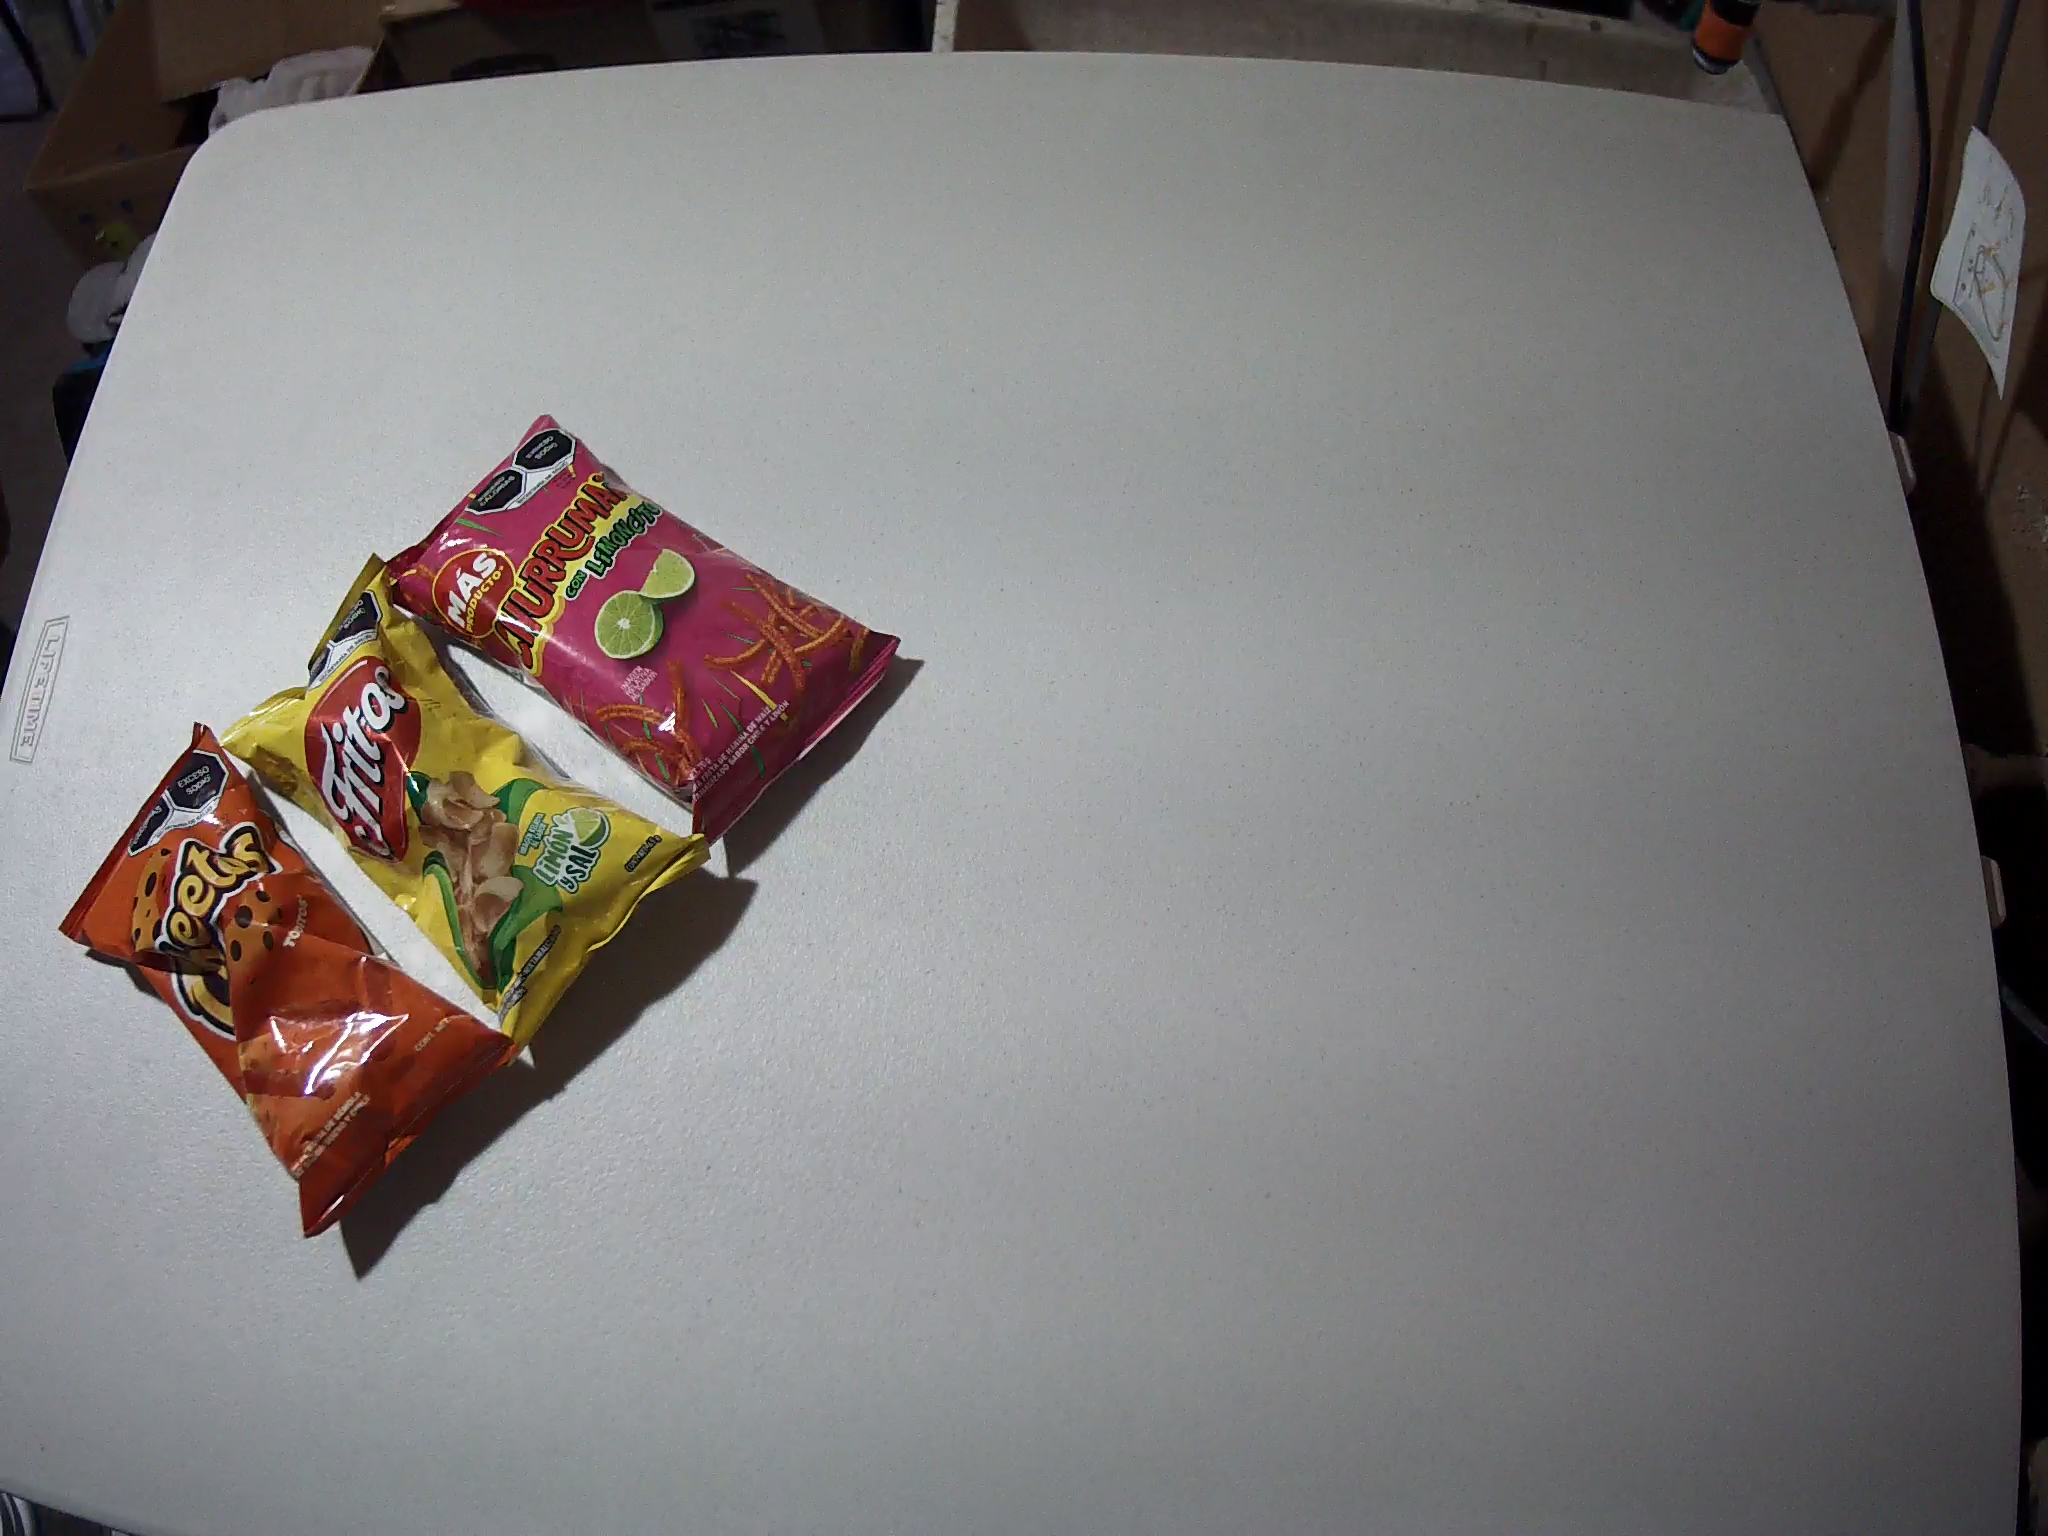CheetosTorciditos_55_F: (61, 723, 531, 1242)
Churrumais_70_F: (376, 411, 906, 849)
FritosSalLimon_65_F: (219, 557, 713, 1070)
